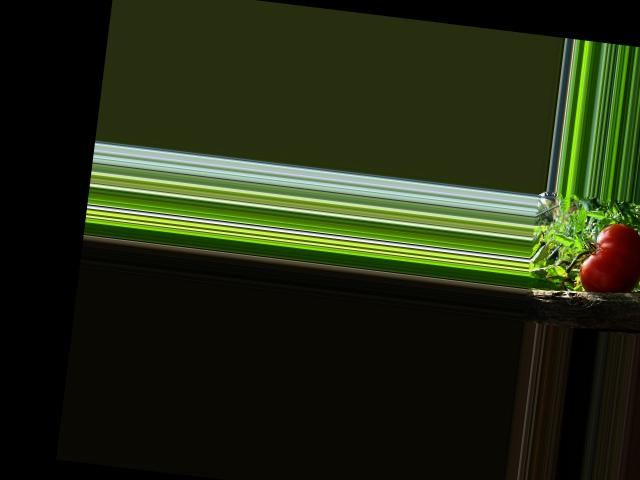tomato: (577, 219, 640, 298)
